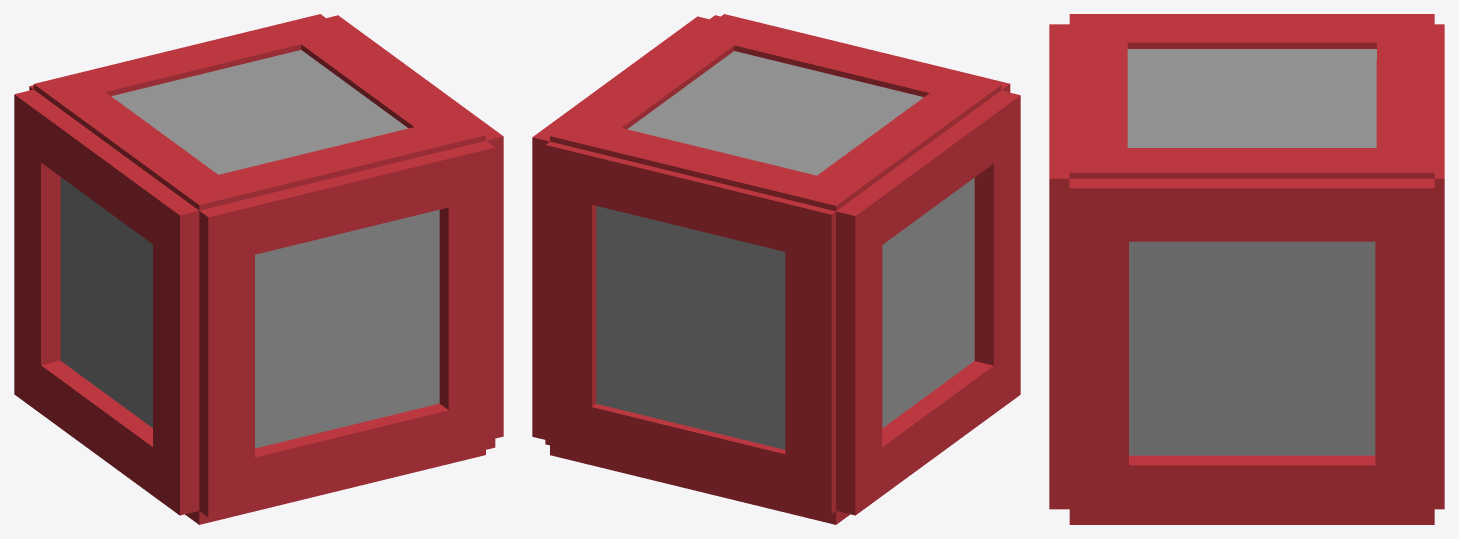
Rendered from CRATE1.fbx.
3 views of the same model, side by side, from view 1: azimuth 30°, elevation 25°; view 2: azimuth 150°, elevation 25°; view 3: azimuth 270°, elevation 25° (orthographic). The views are drawn at different scales.
Visible parts, largest first — view 1: Cube; view 2: Cube; view 3: Cube.
Part boxes in pixels (x1,y1,x2,y2): Cube: [14, 14, 503, 524]; Cube: [532, 14, 1020, 524]; Cube: [1049, 14, 1444, 524].
Size of the model in its own units: 226 by 213 by 217.
